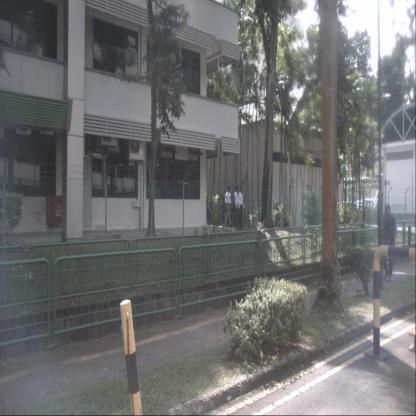human-pedestrian-adult: (382, 205, 396, 281), (224, 186, 233, 227), (234, 186, 241, 230), (238, 186, 245, 228)
